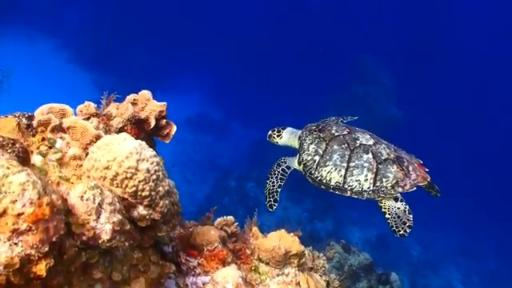Fish: (266, 116, 439, 236)
